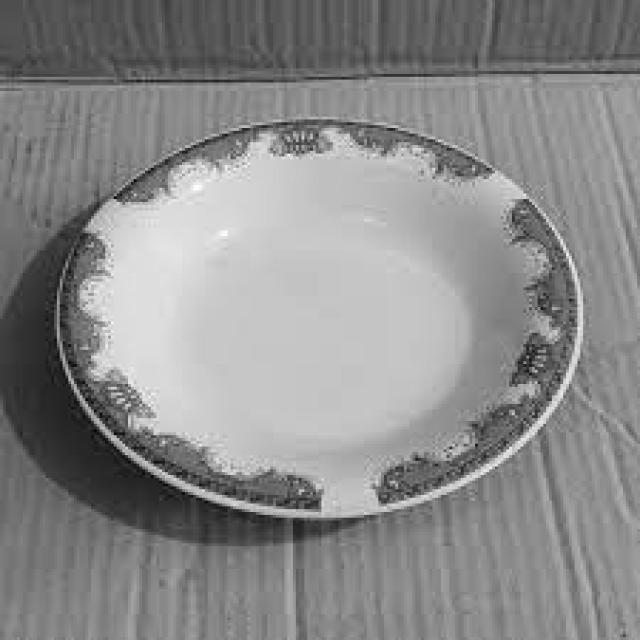dish: (26, 77, 606, 555)
